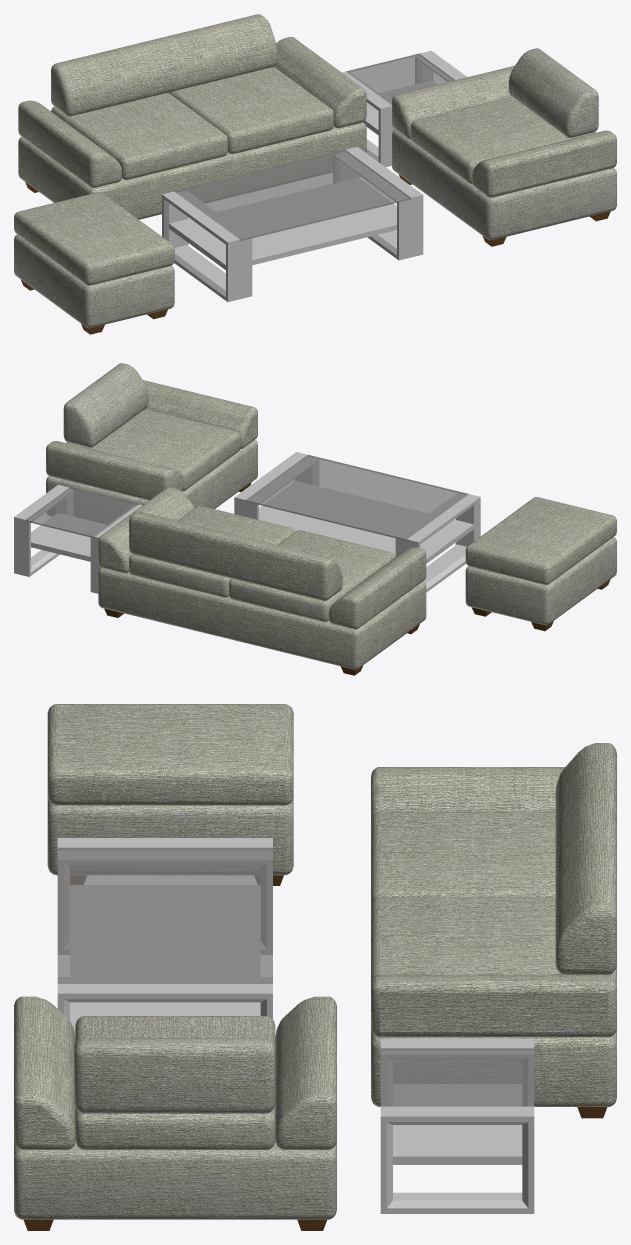
The model's file is SOFASET.dae.
3 renders of one model, top to bottom at view 1: azimuth 30°, elevation 25°; view 2: azimuth 150°, elevation 25°; view 3: azimuth 270°, elevation 25°, orthographic. The views are drawn at different scales.
Parts seen in each view (by area): view 1: group_5, group_3, group_13, group_12 (×2), group_23, group_11 (×4), group_26, group_10, group_4, group_17, group_30, group_16 (+7 smaller); view 2: group_3, group_13, group_5, group_26, group_12, group_17, group_30, group_11 (×3), group_10, group_19, group_23, group_22 (+7 smaller); view 3: group_13, group_26, group_23, group_12, group_10, group_2, group_22, group_4, group_11 (×4), group_5, group_31 (×4), group_17 (+7 smaller).
Boxes of the visible parts, bbox=[...] form: group_5: bbox=[51, 14, 277, 116]; group_3: bbox=[18, 122, 366, 219]; group_13: bbox=[174, 149, 410, 241]; group_12 (×2): bbox=[169, 178, 396, 269]; group_23: bbox=[392, 129, 616, 240]; group_11 (×4): bbox=[162, 146, 423, 301]; group_26: bbox=[14, 192, 174, 285]; group_10: bbox=[51, 92, 227, 179]; group_4: bbox=[168, 67, 333, 154]; group_17: bbox=[410, 96, 595, 183]; group_30: bbox=[14, 234, 174, 328]; group_16: bbox=[472, 130, 616, 197]; group_3: bbox=[98, 567, 426, 669]; group_13: bbox=[245, 455, 468, 540]; group_5: bbox=[129, 511, 342, 600]; group_26: bbox=[465, 497, 616, 584]; group_12: bbox=[259, 481, 473, 558]; group_17: bbox=[66, 409, 240, 491]; group_30: bbox=[465, 537, 616, 625]; group_11 (×3): bbox=[234, 452, 480, 592]; group_10: bbox=[229, 530, 395, 621]; group_19: bbox=[46, 441, 182, 500]; group_23: bbox=[46, 440, 257, 524]; group_22: bbox=[63, 363, 148, 447]; group_13: bbox=[57, 847, 272, 983]; group_26: bbox=[47, 704, 293, 805]; group_23: bbox=[14, 1141, 336, 1219]; group_12: bbox=[70, 885, 260, 1034]; group_10: bbox=[371, 812, 555, 905]; group_2: bbox=[371, 974, 616, 1037]; group_22: bbox=[74, 1038, 275, 1113]; group_4: bbox=[371, 897, 616, 980]; group_11 (×4): bbox=[57, 838, 272, 1020]; group_5: bbox=[555, 743, 616, 974]; group_31 (×4): bbox=[380, 1038, 534, 1213]; group_17: bbox=[75, 1016, 275, 1149].
Bounding box in the file's own units: 126 × 77.2 × 26.77.
